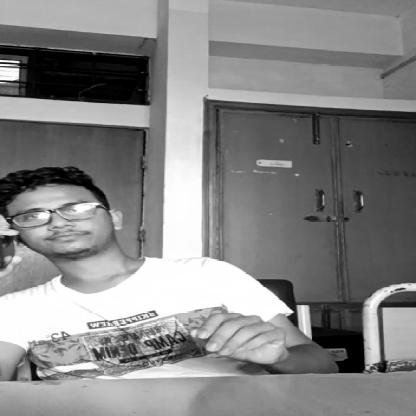Normal: (3, 178, 134, 260)
